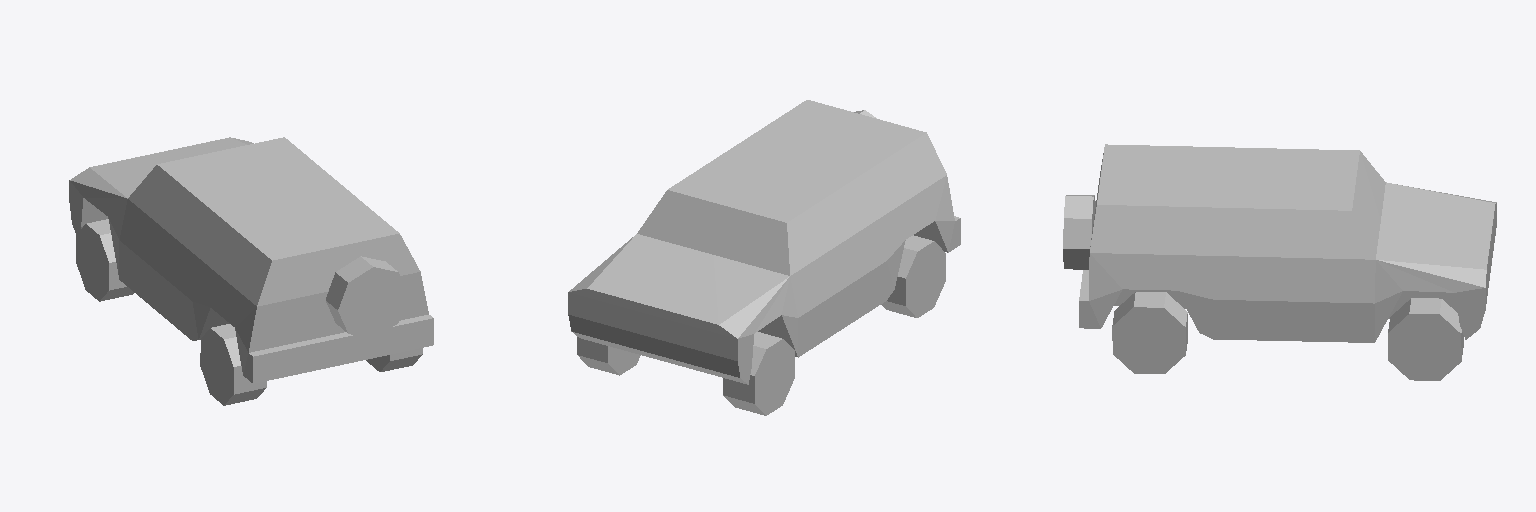
Rendered from carchange2.obj.
3 renders of one model, left to right at view 1: azimuth 30°, elevation 25°; view 2: azimuth 150°, elevation 25°; view 3: azimuth 270°, elevation 25°, orthographic.
Parts seen in each view (by area): view 1: _null_6; view 2: _null_6; view 3: _null_6.
Boxes of the visible parts, box(x1,y1,x2,y2) form: _null_6: box(69, 137, 433, 405); _null_6: box(568, 100, 960, 415); _null_6: box(1063, 144, 1496, 380).
Bounding box in the file's own units: 6.47 × 4.74 × 12.14.